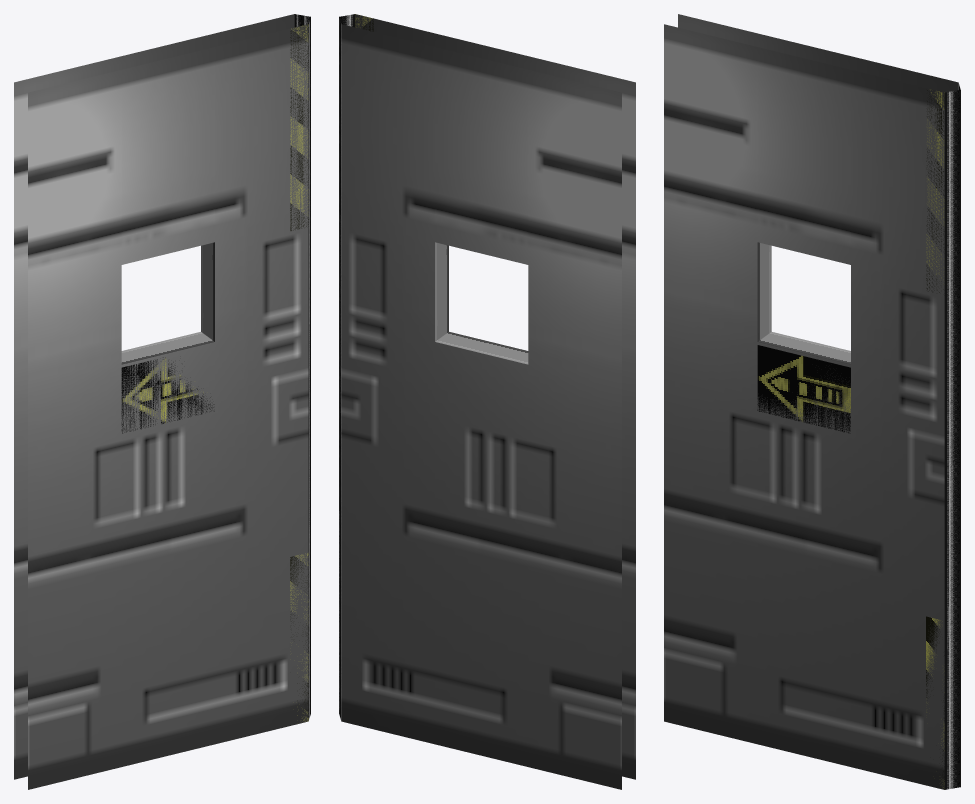
Rendered from primary_139.glb.
The picture shows the model from 3 angles, left to right: view 1: azimuth 30°, elevation 25°; view 2: azimuth 150°, elevation 25°; view 3: azimuth 330°, elevation 25°; orthographic projection.
Parts seen in each view (by area): view 1: Object; view 2: Object; view 3: Object.
Boxes of the visible parts, x1,y1,x2,y2 form: Object: [14, 14, 310, 789]; Object: [339, 14, 635, 789]; Object: [664, 14, 960, 789].
Size of the model in its own units: 1.26 by 2.89 by 0.1049.
Materials: 7 (7 with a texture image).
